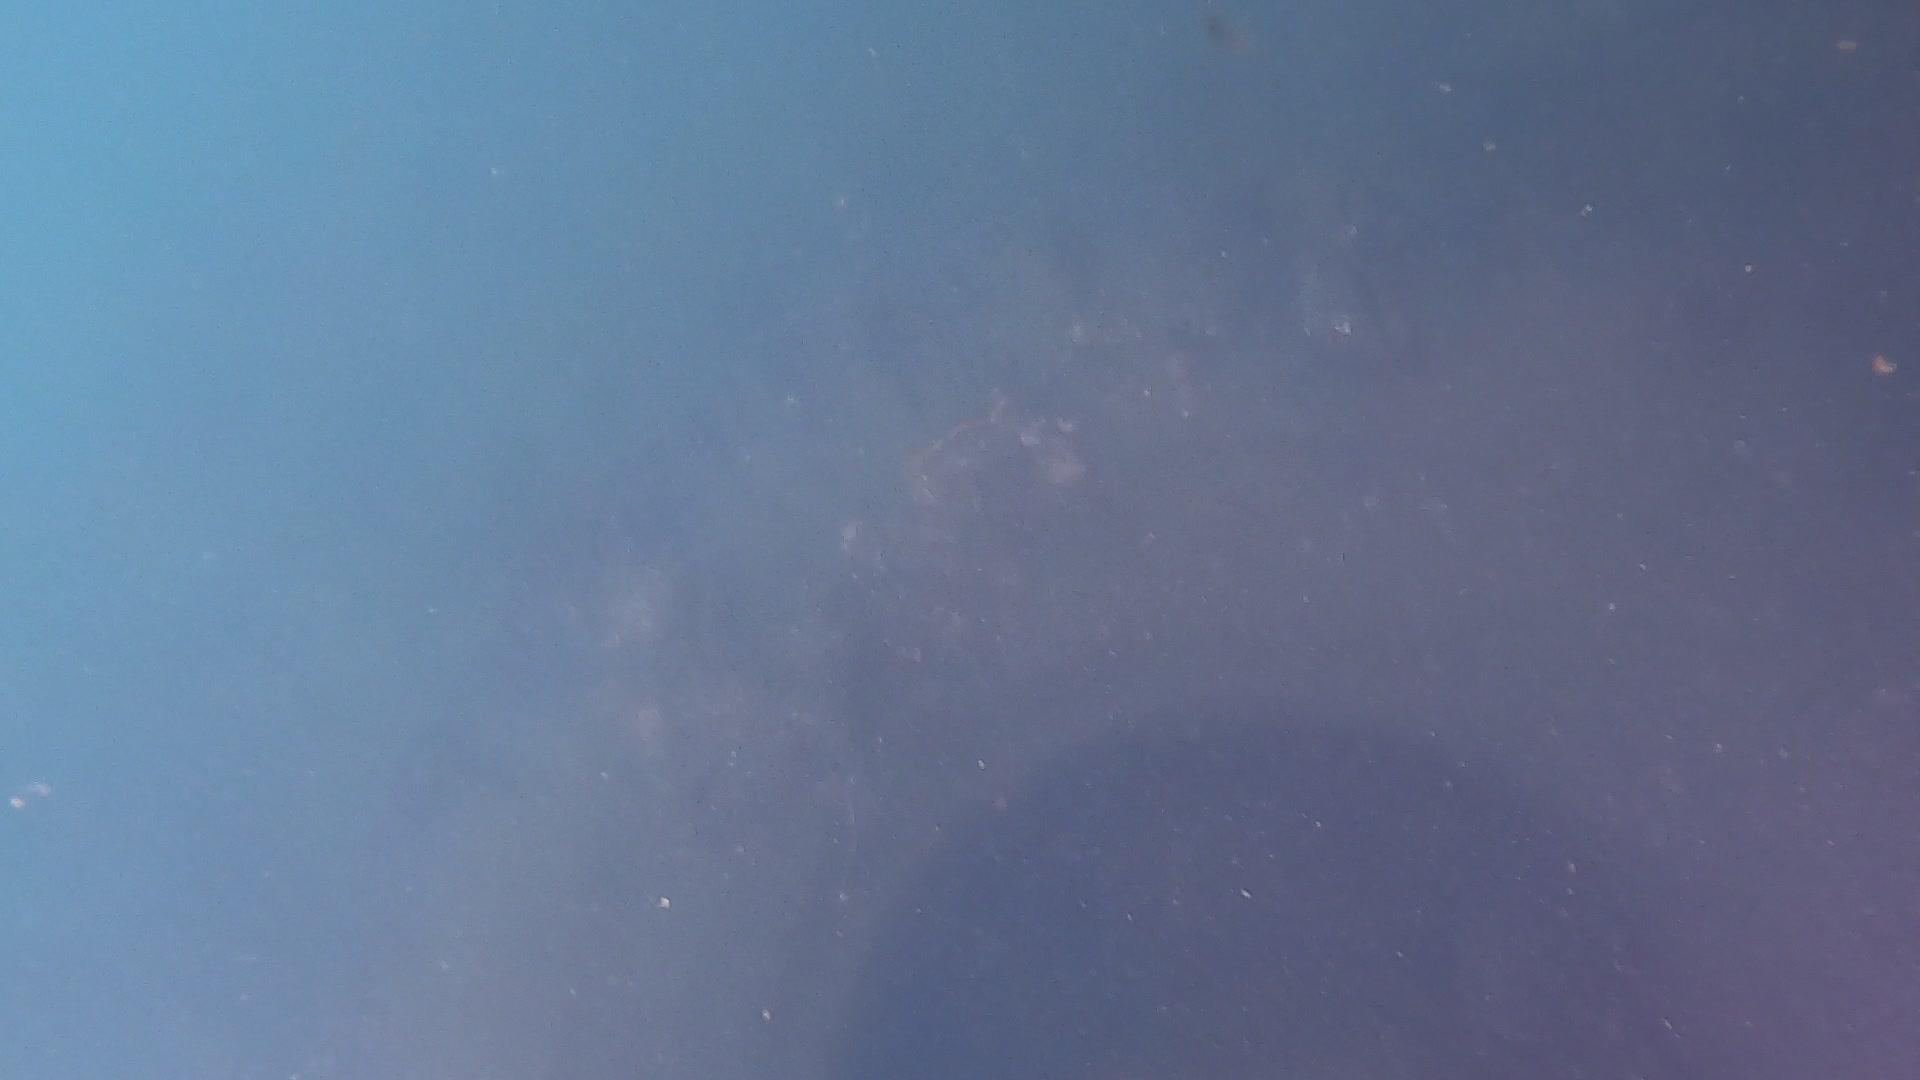tire: (305, 138, 1920, 1080)
